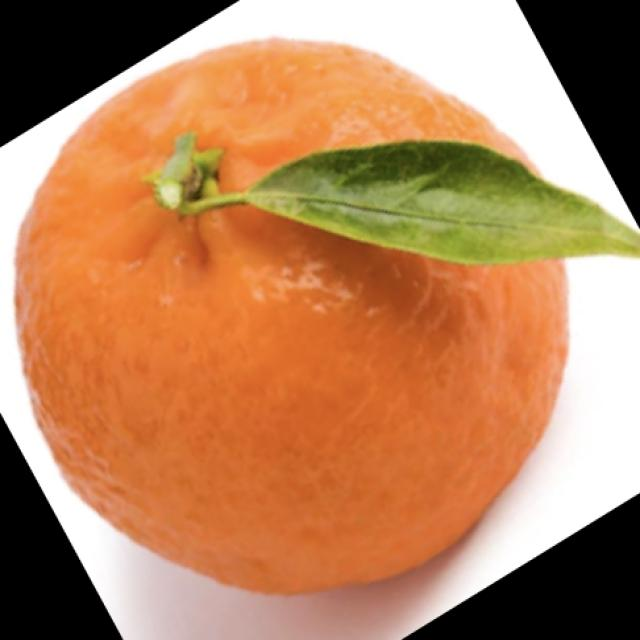matang: (15, 38, 570, 583)
